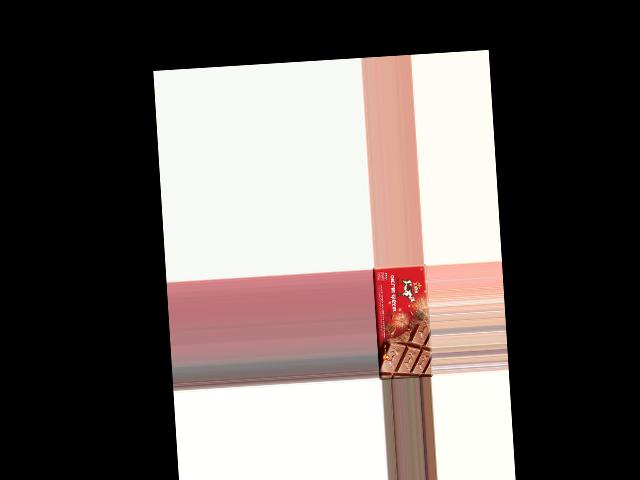chocolate: (372, 263, 432, 379)
